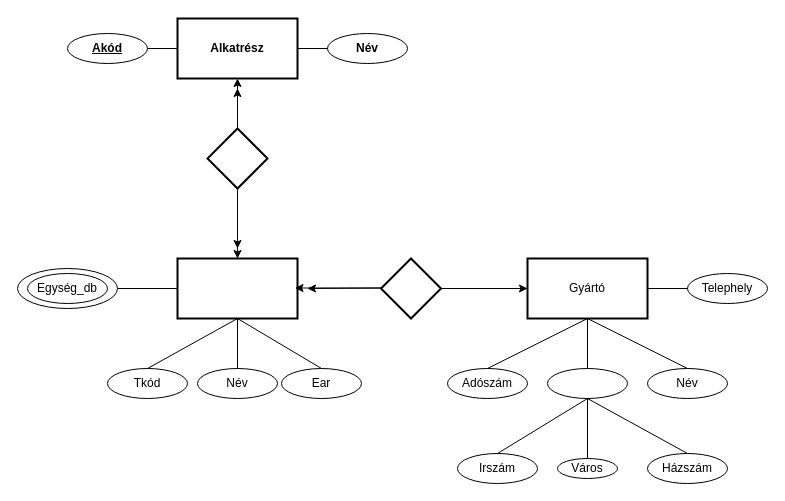
Image size: 785x501. Some labels were removed from this diagram. The centre of each missing label's shape, as x and y in pixels:
"Postaicím" goes at (587,383).
"T-GY" goes at (411,288).
"T_A" goes at (237,158).
"Termék" goes at (237,288).
